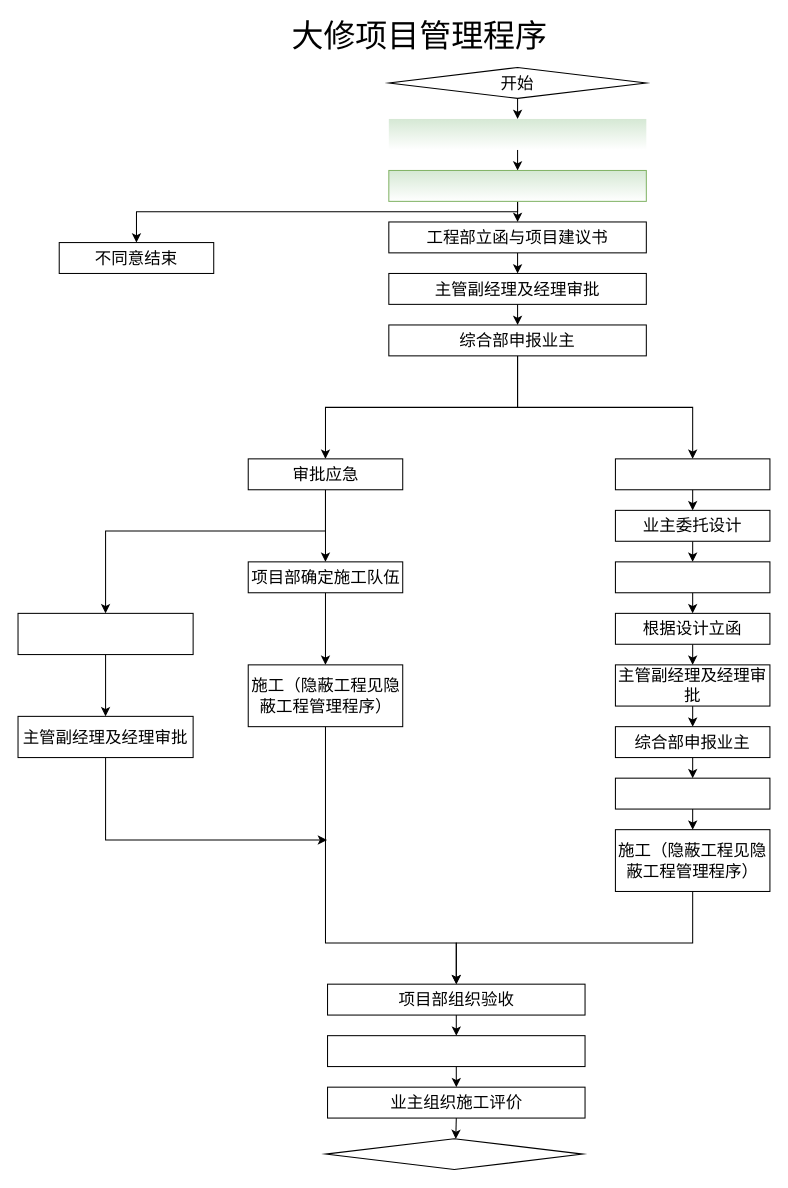
Image size: 788x1188. Some labels were removed from this diagram. The shapes that lost their labels are listed below. From the top down, each one's box as (x1, y1, x2, y2) in pixels, then its label:
(388, 118, 646, 149): 各部门填写立项建议书，发起需求
(388, 169, 646, 201): 主管副经理审批
(614, 458, 770, 490): 审批非应急
(614, 561, 770, 593): 技术部组织设计审查
(17, 612, 193, 655): 立函及申报预算附件
(614, 777, 770, 809): 回函后组织签订合同
(327, 1035, 585, 1067): 施工方制作交工资料
(324, 1138, 583, 1170): 结束
